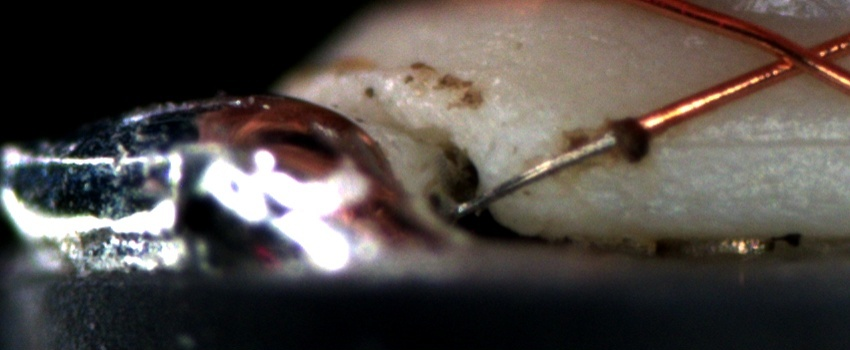CL: (748, 28, 842, 84)
DL: (641, 111, 850, 175)
TS: (454, 128, 618, 214)
TTCW: (453, 97, 693, 212)
